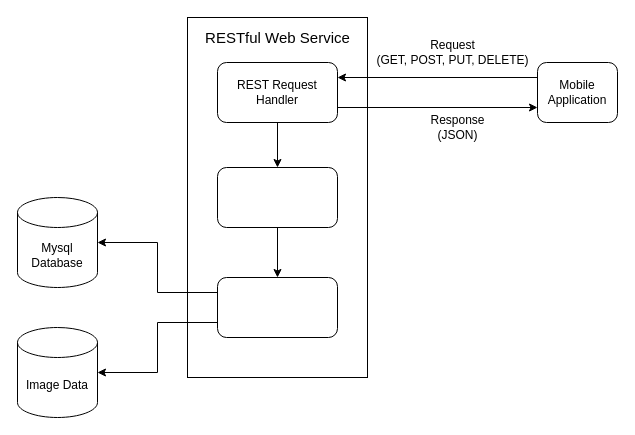
The diagram is 635 pixels wide and 435 high, and some of its shapes have lost their labels. Here are the shapes that lost their labels. From the top down, the box of each, then its label:
(216, 166, 338, 228): Service Handler
(216, 276, 338, 338): Database Handler
